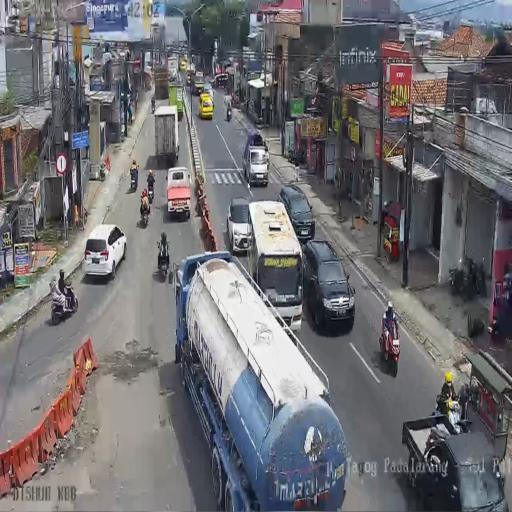3: (154, 105, 179, 164), (168, 81, 184, 118), (194, 71, 205, 95), (168, 54, 178, 80), (144, 50, 152, 73)
car: (302, 239, 353, 331), (83, 224, 127, 280), (278, 184, 314, 242), (227, 195, 254, 253), (166, 166, 192, 221), (242, 137, 269, 187), (199, 92, 213, 120), (186, 70, 192, 85), (180, 58, 186, 71)
truck: (50, 280, 78, 324), (380, 317, 402, 369), (159, 248, 169, 278), (289, 146, 304, 166), (140, 200, 150, 226), (130, 166, 139, 191), (146, 180, 154, 203), (226, 104, 232, 121), (151, 100, 156, 113)
